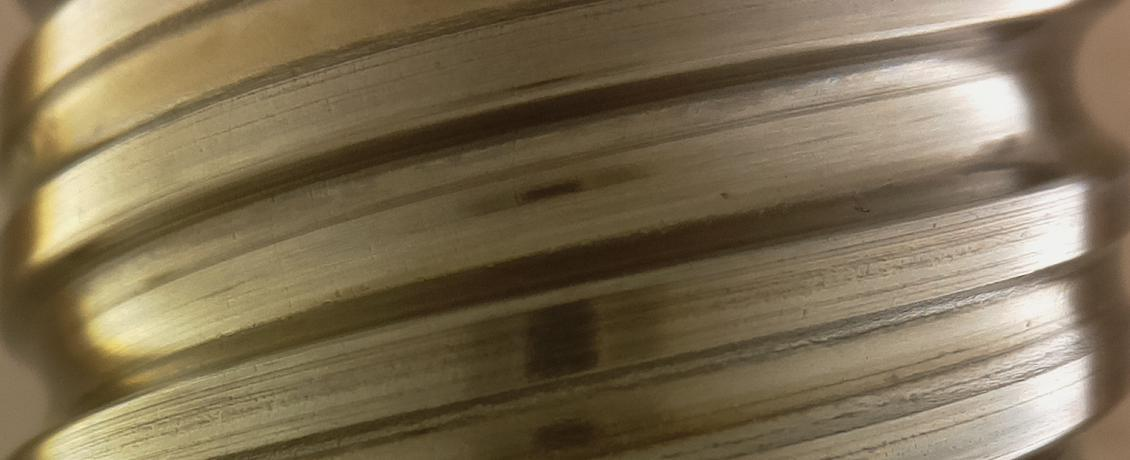pitting: (853, 206, 870, 213)
